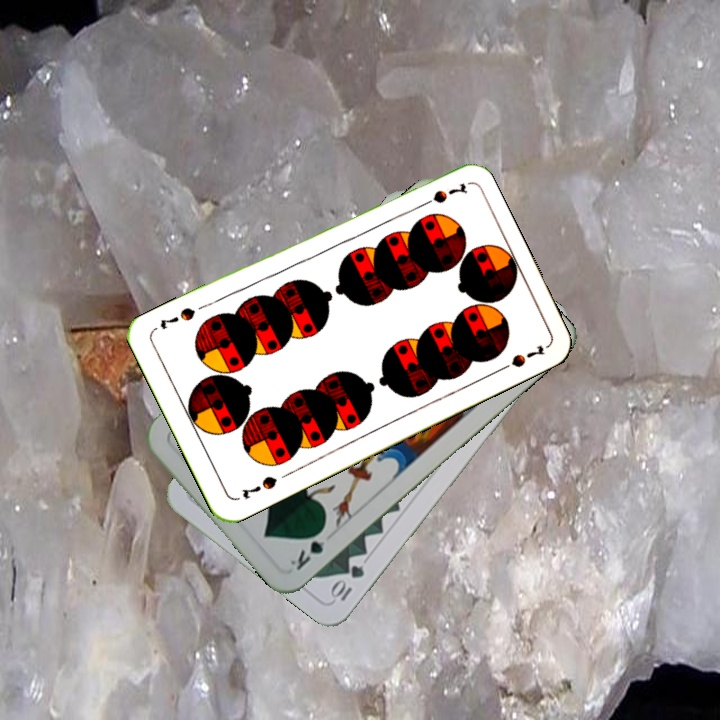G10: (327, 561, 368, 604)
GK: (286, 523, 329, 573)
S7: (412, 178, 469, 212), (238, 472, 280, 502)
